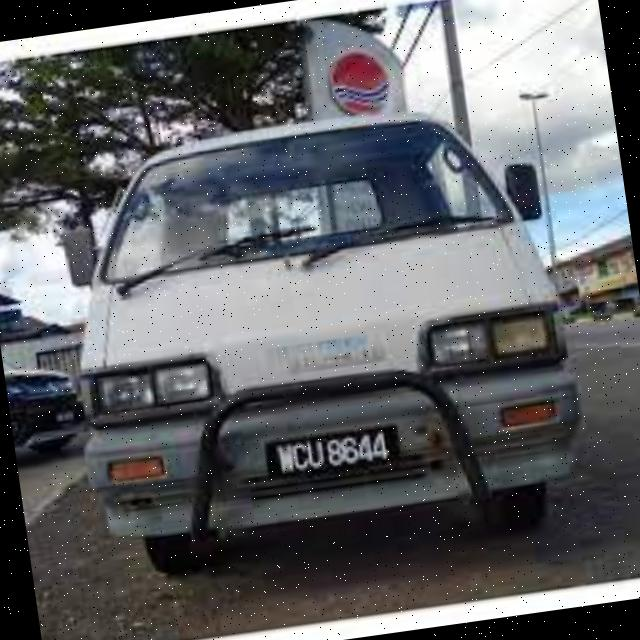License_Plate: (258, 414, 414, 492)
van: (35, 82, 592, 592)
